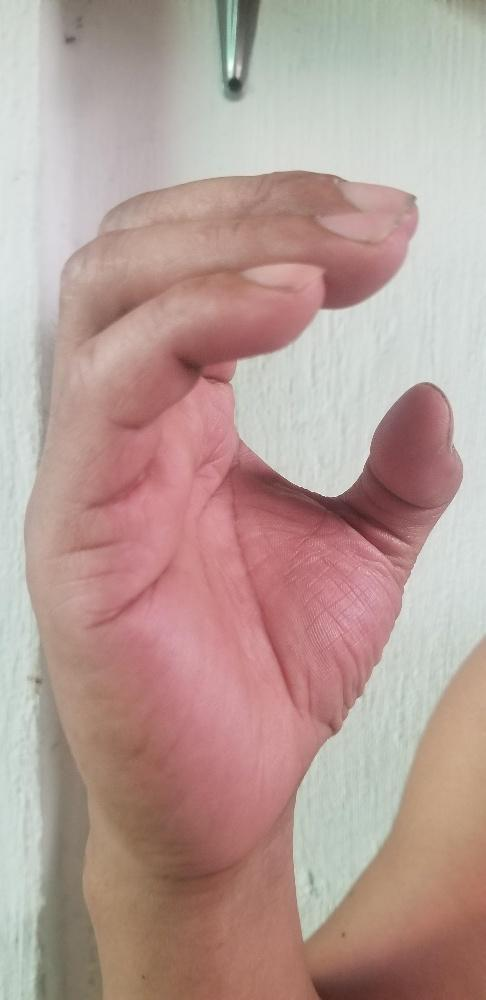c: (19, 163, 464, 858)
